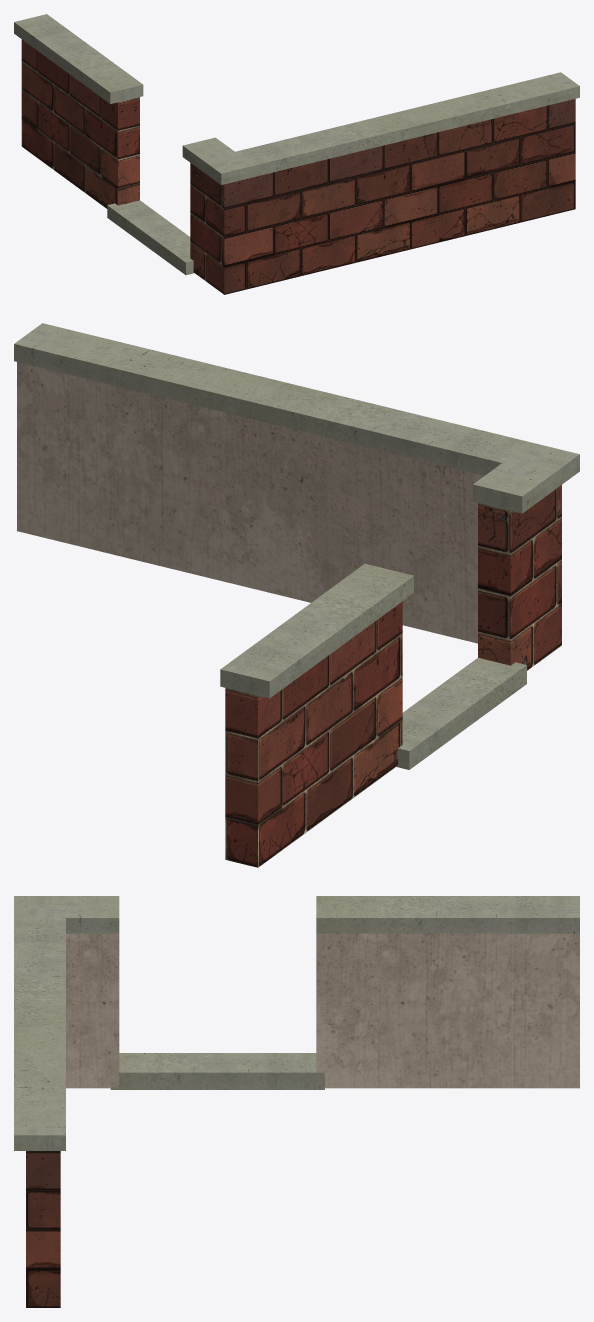
File: roof03_cornerGap02.fbx
The picture shows the model from 3 angles, top to bottom: view 1: azimuth 30°, elevation 25°; view 2: azimuth 150°, elevation 25°; view 3: azimuth 270°, elevation 25°; orthographic projection. The views are drawn at different scales.
Visible parts, largest first — view 1: roof03_cornerGap02; view 2: roof03_cornerGap02; view 3: roof03_cornerGap02.
Part boxes in pixels (bbox=[...]): roof03_cornerGap02: bbox=[14, 14, 579, 294]; roof03_cornerGap02: bbox=[14, 323, 579, 867]; roof03_cornerGap02: bbox=[14, 896, 579, 1307].
Size of the model in its own units: 327 by 111 by 327.
